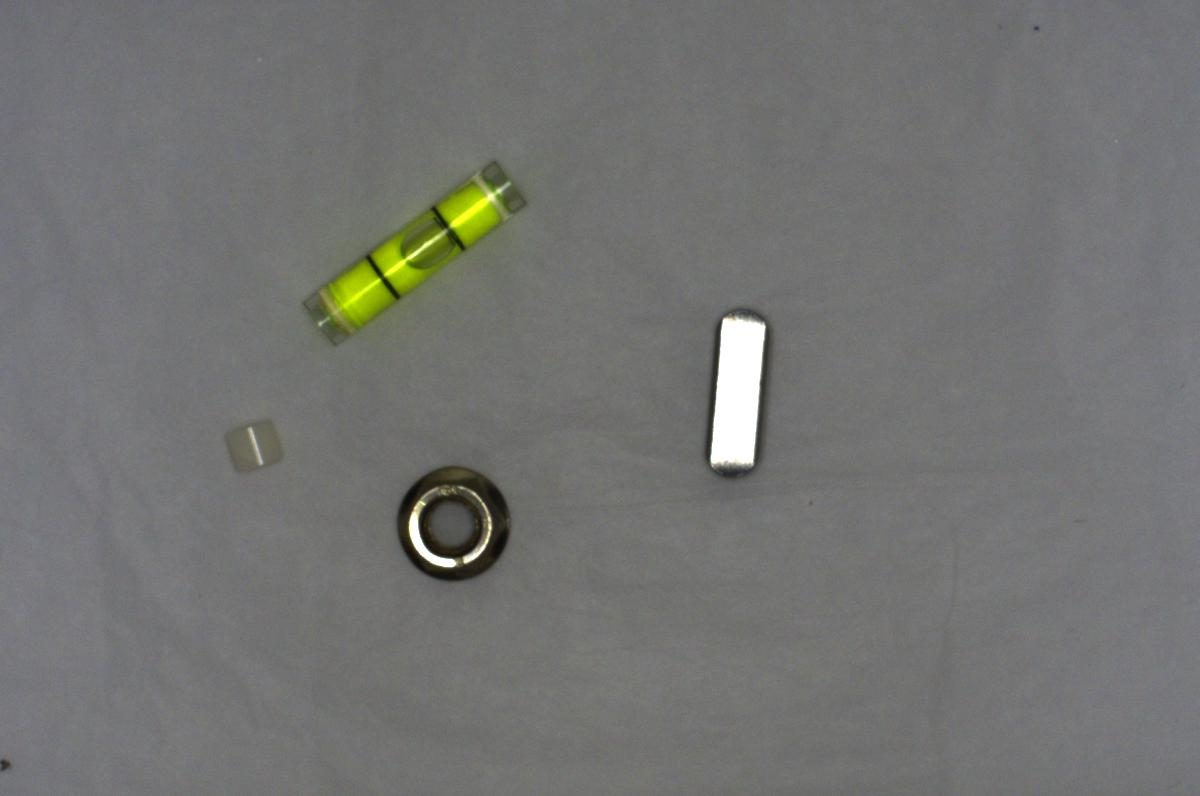Flange nut: (384, 456, 521, 589)
Horizontal bubble: (295, 152, 530, 352)
Keybar: (687, 303, 786, 483)
Plastic cushion pillar: (211, 405, 290, 485)
